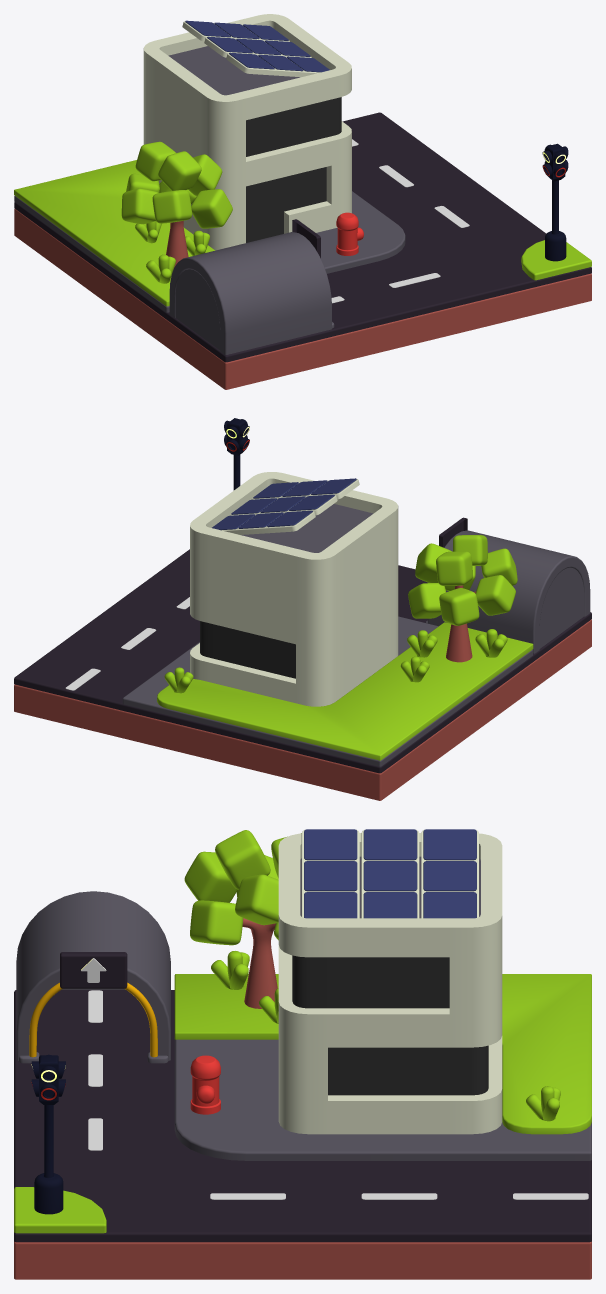
File: street.glb
The picture shows the model from 3 angles, top to bottom: view 1: azimuth 30°, elevation 25°; view 2: azimuth 150°, elevation 25°; view 3: azimuth 270°, elevation 25°; orthographic projection. The views are drawn at different scales.
Parts seen in each view (by area): view 1: Road, Building, Tunnel, Grass.001, Tree, Panels, Sidewalk, Circle.012, Streetlight, Grass, Hydrant, Tree.001 (+2 smaller); view 2: Building, Road, Grass.001, Tree, Tunnel, Sidewalk, Panels, Circle.012, Streetlight, Tree.001, Lines, grass.001 (+3 smaller); view 3: Road, Building, Sidewalk, Grass.001, Tunnel, Panels, Tree, Streetlight, Grass, Tree.001, Hydrant, Lines (+3 smaller).
Part boxes in pixels (x1,y1,x2,y2): Road: (14, 112, 591, 389); Building: (143, 14, 351, 250); Tunnel: (169, 219, 334, 354); Grass.001: (14, 160, 214, 306); Tree: (121, 141, 232, 228); Panels: (182, 20, 329, 77); Sidewalk: (14, 191, 405, 312); Circle.012: (175, 269, 220, 350); Streetlight: (542, 143, 568, 261); Grass: (521, 240, 591, 280); Hydrant: (336, 212, 363, 255); Tree.001: (166, 220, 188, 267); Building: (190, 472, 398, 706); Road: (14, 549, 591, 800); Grass.001: (157, 622, 533, 760); Tree: (408, 535, 517, 625); Tunnel: (425, 517, 590, 653); Sidewalk: (122, 616, 532, 766); Panels: (212, 478, 359, 534); Circle.012: (539, 567, 584, 648); Streetlight: (224, 418, 249, 490); Tree.001: (446, 585, 475, 662); Lines: (65, 597, 189, 690); grass.001: (475, 629, 507, 657); Road: (14, 990, 591, 1279); Building: (278, 833, 502, 1134); Sidewalk: (174, 1039, 591, 1160); Grass.001: (174, 974, 591, 1134); Tunnel: (16, 891, 170, 1063); Panels: (301, 829, 478, 918); Tree: (184, 830, 301, 945); Streetlight: (31, 1054, 65, 1214); Grass: (14, 1187, 106, 1233); Tree.001: (242, 918, 277, 1008); Hydrant: (190, 1055, 220, 1114); Lines: (210, 1193, 588, 1199).
Bounding box in the file's own units: 8.23 × 4.46 × 8.
